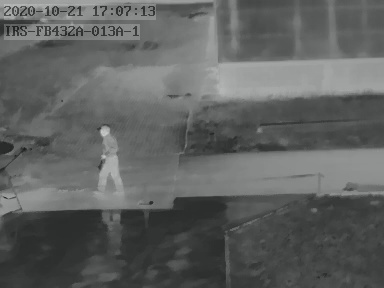person: (96, 121, 126, 193)
